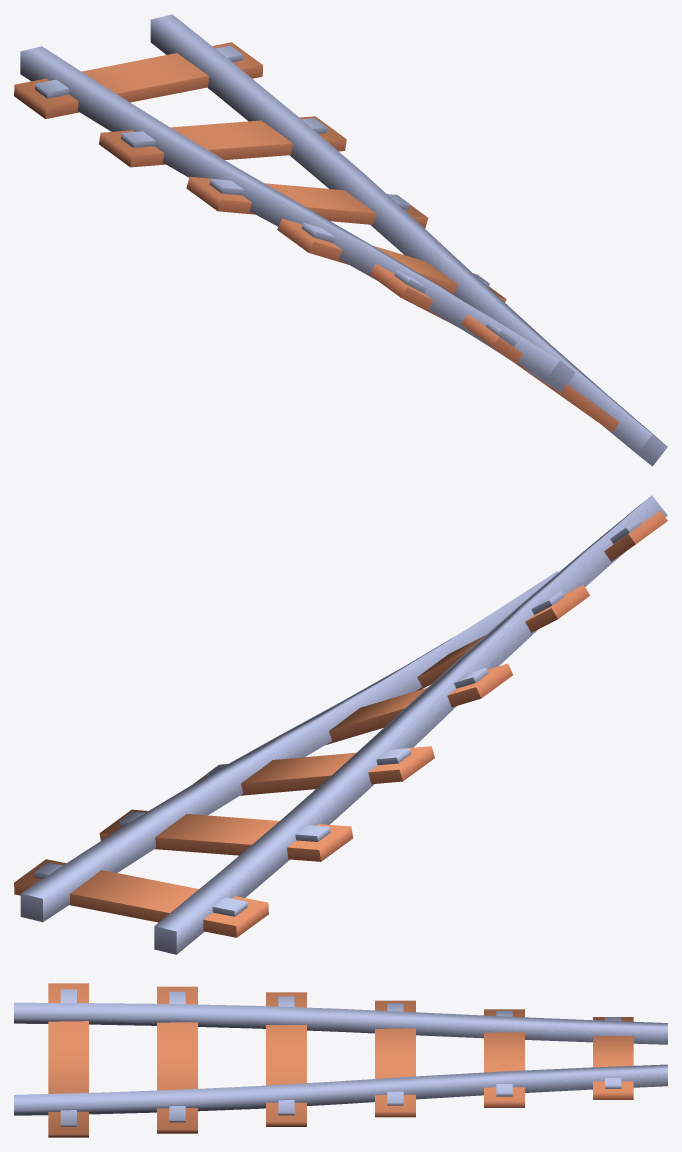
File: railroad-straight-skew-left.glb
3 views of the same model, one above another, from view 1: azimuth 30°, elevation 25°; view 2: azimuth 150°, elevation 25°; view 3: azimuth 270°, elevation 25° (orthographic). The views are drawn at different scales.
Visible parts, largest first — view 1: railroad-straight-skew-left; view 2: railroad-straight-skew-left; view 3: railroad-straight-skew-left.
Part boxes in pixels (<box>): railroad-straight-skew-left: <box>14,14,667,466</box>; railroad-straight-skew-left: <box>14,495,667,954</box>; railroad-straight-skew-left: <box>14,983,667,1137</box>.
Bounding box in the file's own units: 1 × 0.7105 × 4.
Materials: 1 (1 with a texture image).
